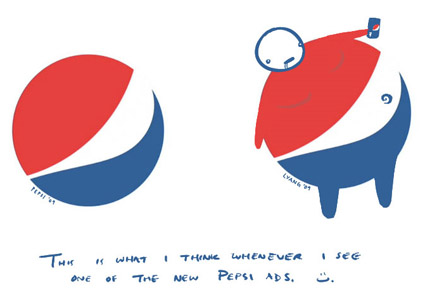pepsi: (239, 26, 410, 186), (11, 54, 164, 207), (256, 36, 410, 186)
